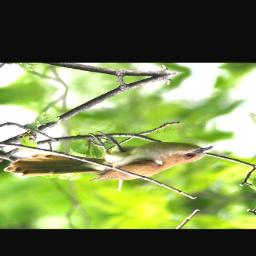Cuckoo: (0, 117, 221, 196)
